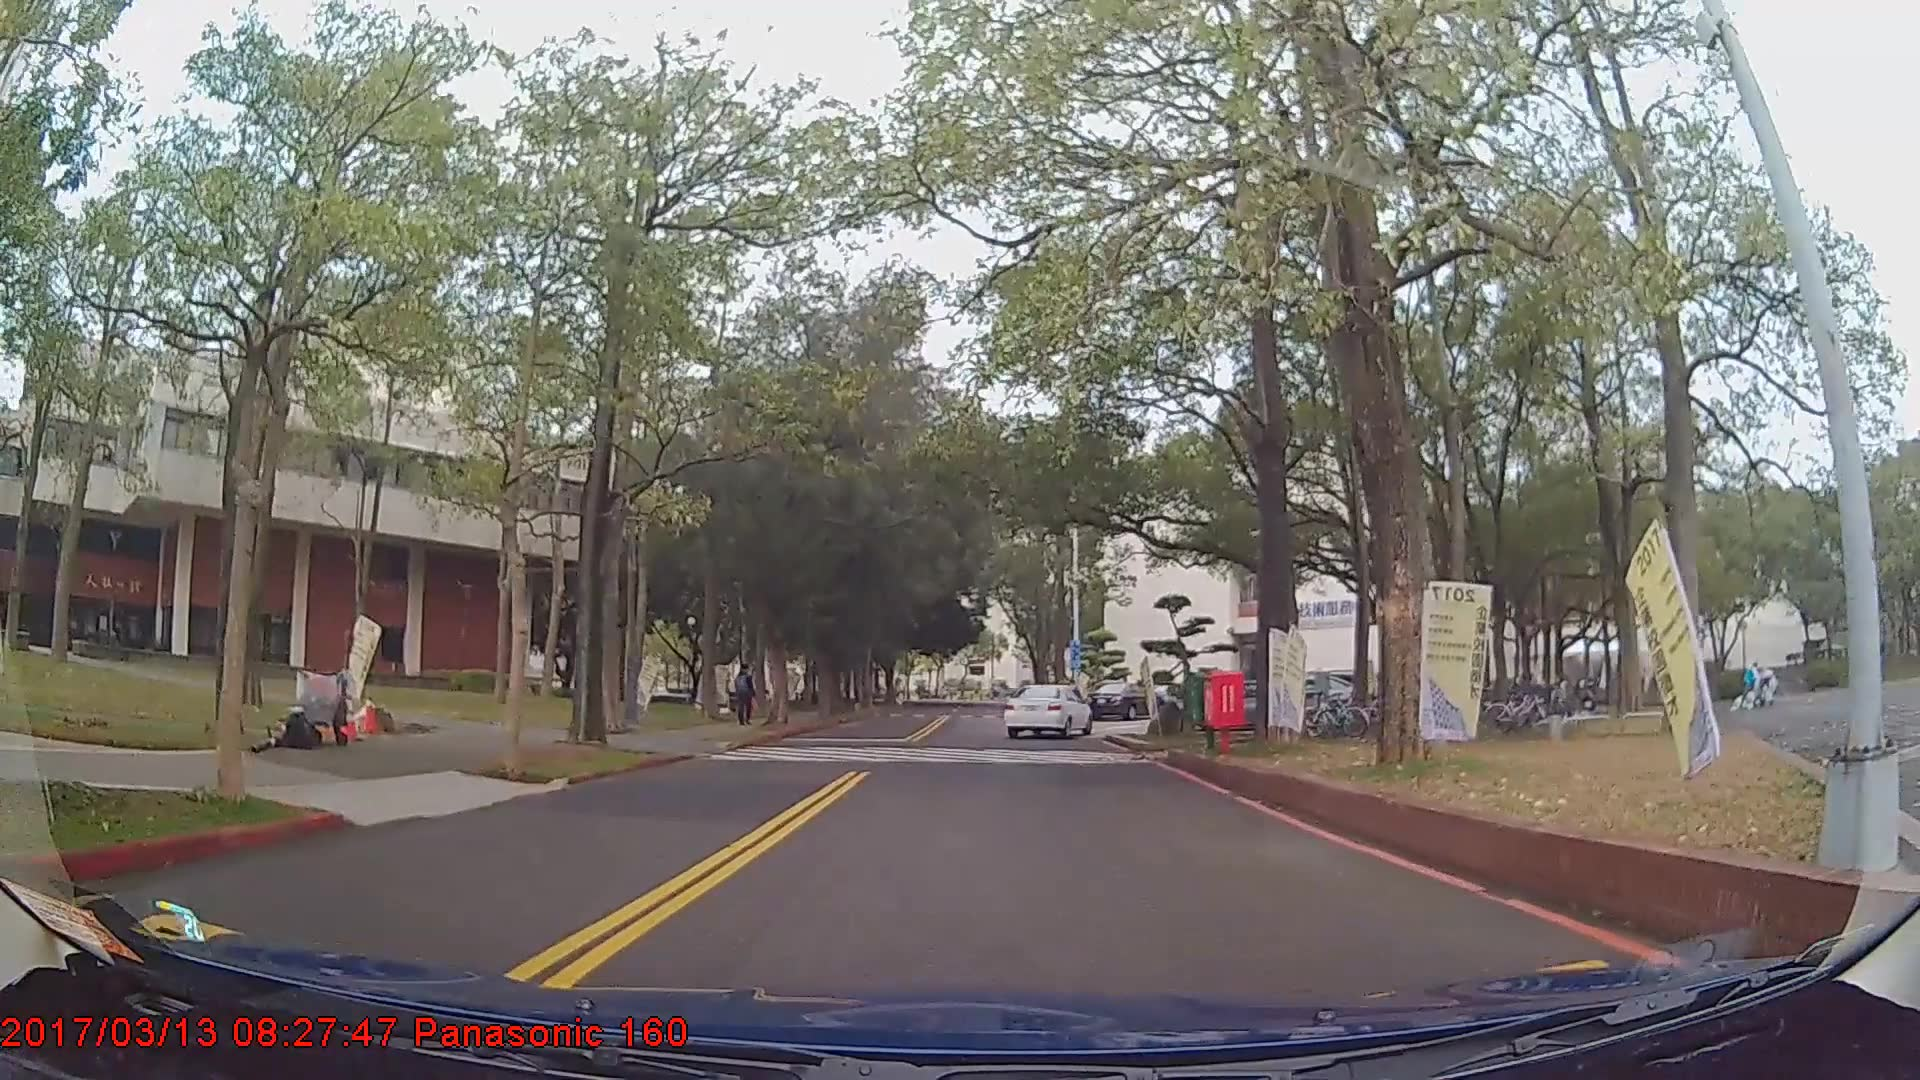pedestrian: (734, 666, 759, 729)
vehicle: (1003, 681, 1091, 739), (1086, 679, 1165, 720)
